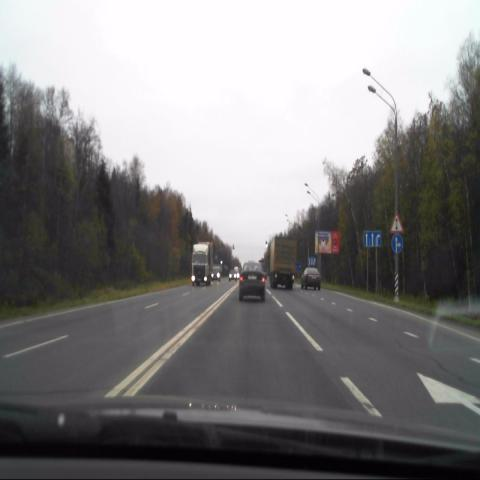1_8: (390, 210, 404, 233)
4_1_4: (391, 234, 404, 255)
